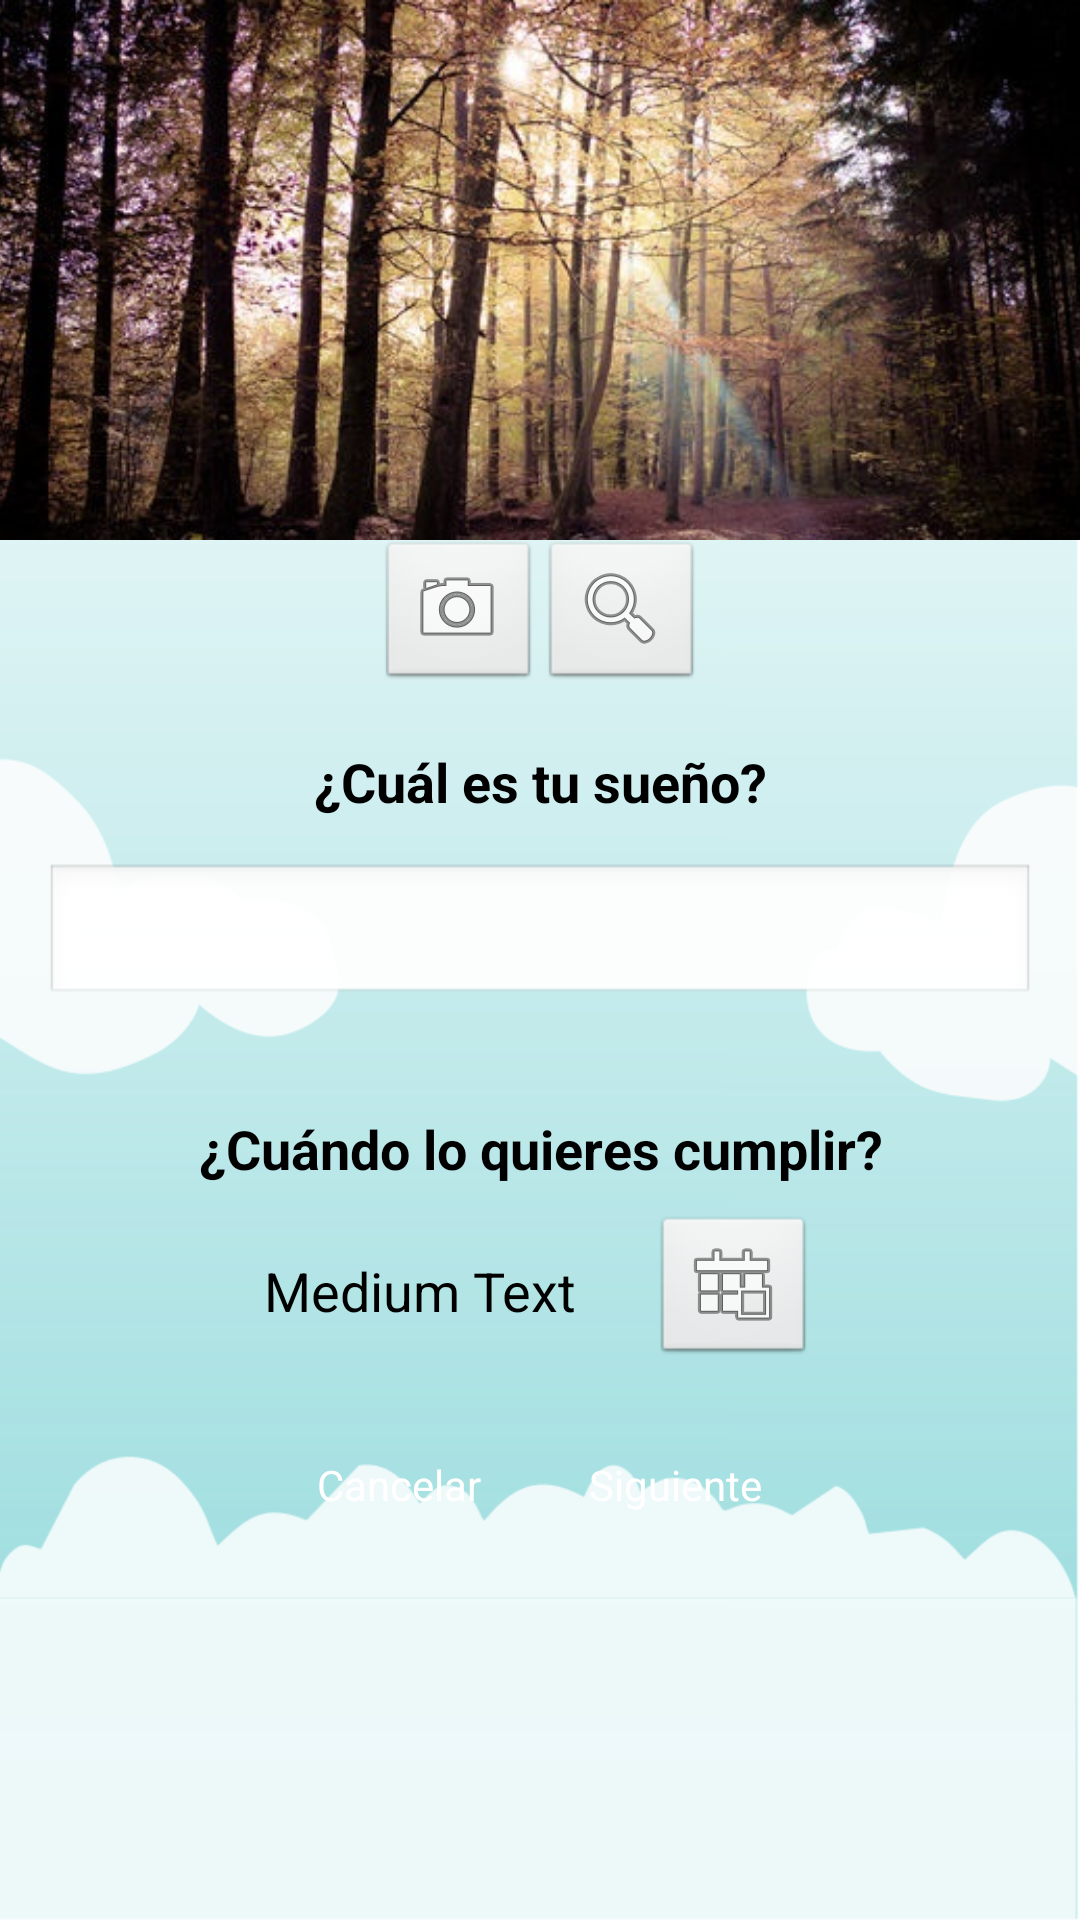

Screen size 1080px x 1920px. Icon name, then its center in pixels as [x,y]:
camera: [458,611]
search: [621,611]
today: [733,1285]
